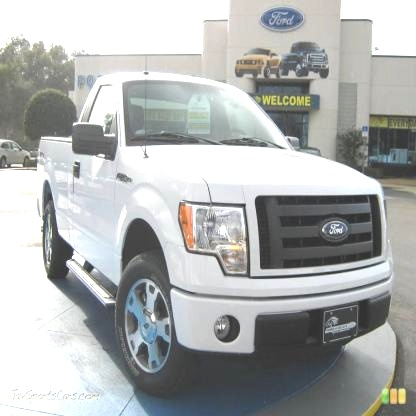Vehicle: (36, 70, 394, 402)
